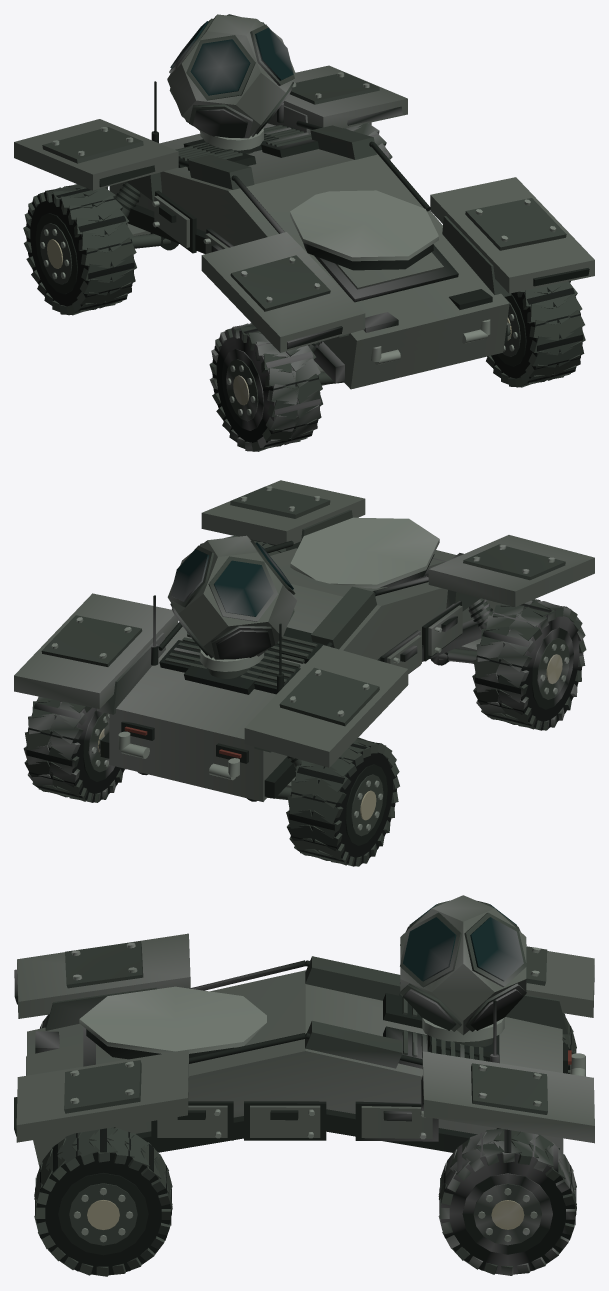
The model's file is xb12_d1_lod0.meshopt.glb.
The picture shows the model from 3 angles, top to bottom: view 1: azimuth 30°, elevation 25°; view 2: azimuth 150°, elevation 25°; view 3: azimuth 270°, elevation 25°; orthographic projection. The views are drawn at different scales.
Visible parts, largest first — view 1: XB12_HULL, WHEEL_RL, WHEEL_FL, SENSOR_INSTRUMENTS, WHEEL_FR, SENSOR_HEX_SPHERE, SUSP_ARM_RL; view 2: XB12_HULL, WHEEL_FL, WHEEL_RL, WHEEL_RR, SENSOR_INSTRUMENTS, SENSOR_HEX_SPHERE, SUSP_ARM_FL; view 3: XB12_HULL, WHEEL_FR, WHEEL_RR, SENSOR_INSTRUMENTS, SENSOR_HEX_SPHERE.
Part boxes in pixels (box(x1,y1,x2,y2)): XB12_HULL: box(14, 65, 594, 389); WHEEL_RL: box(23, 184, 136, 315); WHEEL_FL: box(209, 323, 322, 451); SENSOR_INSTRUMENTS: box(169, 14, 294, 138); WHEEL_FR: box(486, 281, 585, 387); SENSOR_HEX_SPHERE: box(167, 14, 296, 137); SUSP_ARM_RL: box(127, 223, 178, 250); XB12_HULL: box(14, 480, 594, 801); WHEEL_FL: box(472, 599, 586, 730); WHEEL_RL: box(286, 737, 399, 866); WHEEL_RR: box(23, 696, 126, 802); SENSOR_INSTRUMENTS: box(169, 535, 295, 659); SENSOR_HEX_SPHERE: box(167, 535, 296, 658); SUSP_ARM_FL: box(430, 638, 481, 665); XB12_HULL: box(14, 933, 594, 1167); WHEEL_FR: box(34, 1127, 172, 1276); WHEEL_RR: box(438, 1128, 576, 1275); SENSOR_INSTRUMENTS: box(400, 900, 526, 1031); SENSOR_HEX_SPHERE: box(400, 895, 526, 1035).
Size of the model in its own units: 2.9 by 2.31 by 4.24.
